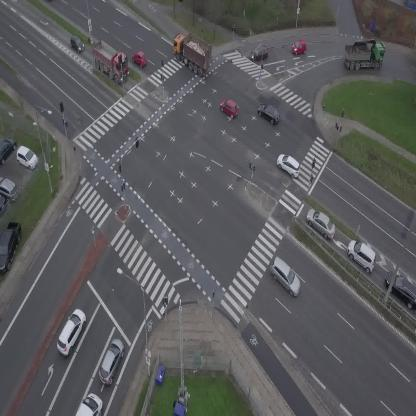car: (51, 306, 90, 357), (264, 255, 307, 298), (94, 336, 128, 387), (342, 236, 383, 275), (301, 205, 341, 242), (273, 151, 305, 179), (255, 101, 283, 126), (217, 96, 241, 119), (65, 33, 86, 55), (129, 48, 150, 69), (290, 39, 308, 56), (249, 45, 269, 60)
lorry: (164, 28, 220, 78), (83, 35, 137, 86), (344, 38, 387, 71), (75, 393, 102, 416)
